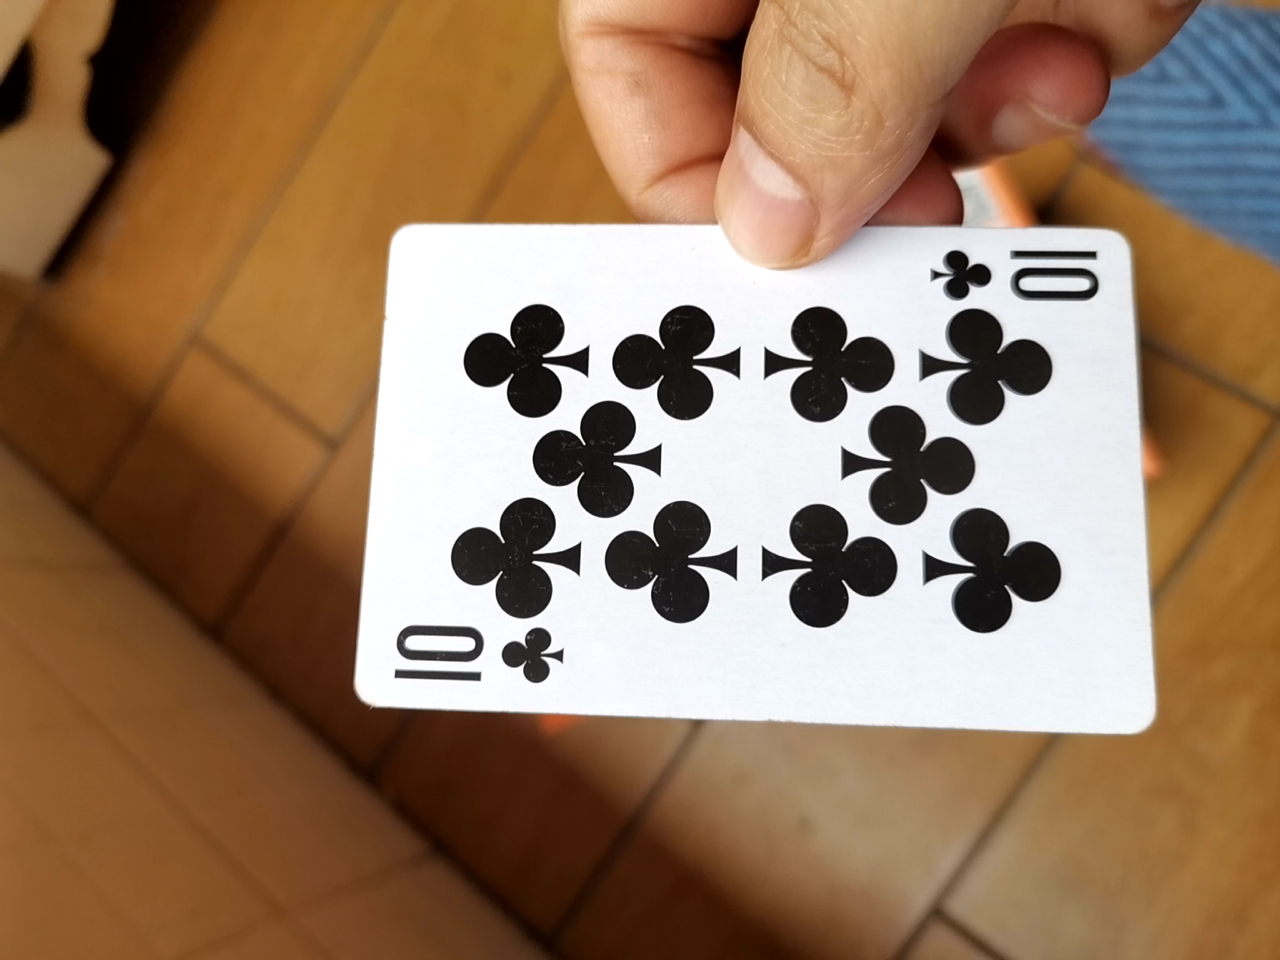mh 10: (344, 214, 1145, 732)
